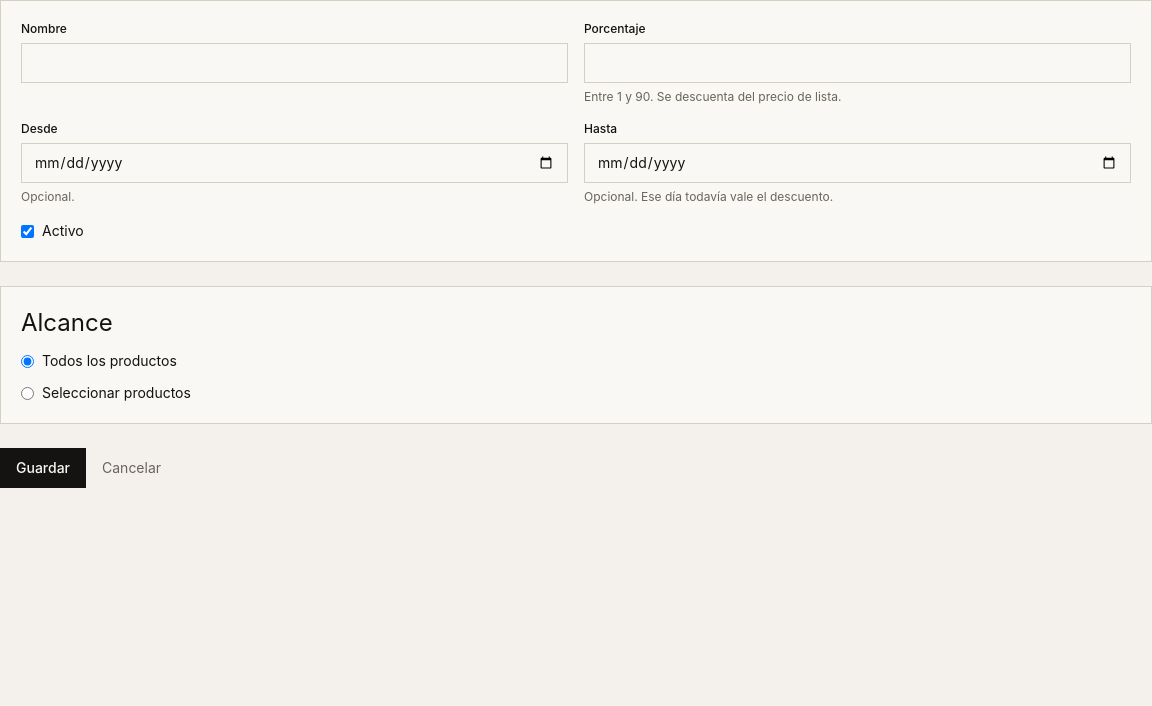
Test: DiscountForm › lists each product with its lot and price, and counts the selection
What coordinates should you click on to do the following:
click the radio button labelled "Seleccionar productos"
I would click on:
 (28, 393)
Its box is [21, 386, 34, 400].
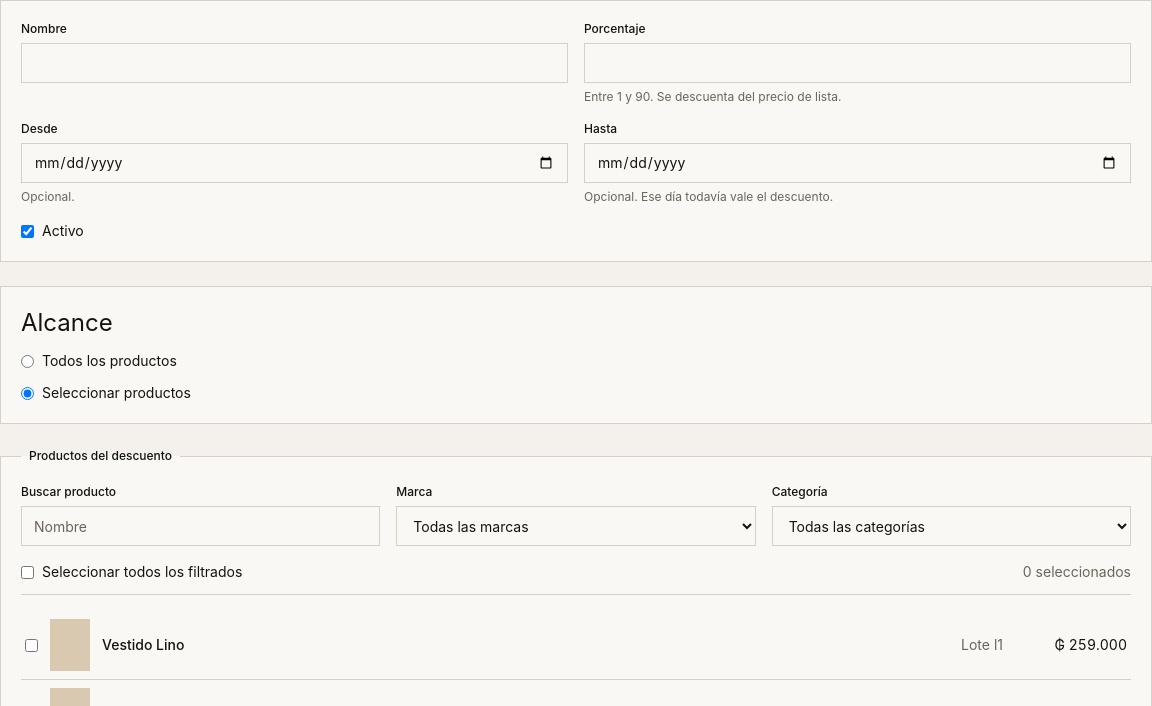
Check: the label labelled "Vestido Lino Lote l1 ₲ 259.000" is shown, box [21, 611, 1131, 679]
What coordinates should you click on to do the following:
click the checkbox labelled "Vestido Lino Lote l1 ₲ 259.000"
I would click on:
 (32, 645)
Its box is [25, 638, 38, 652].
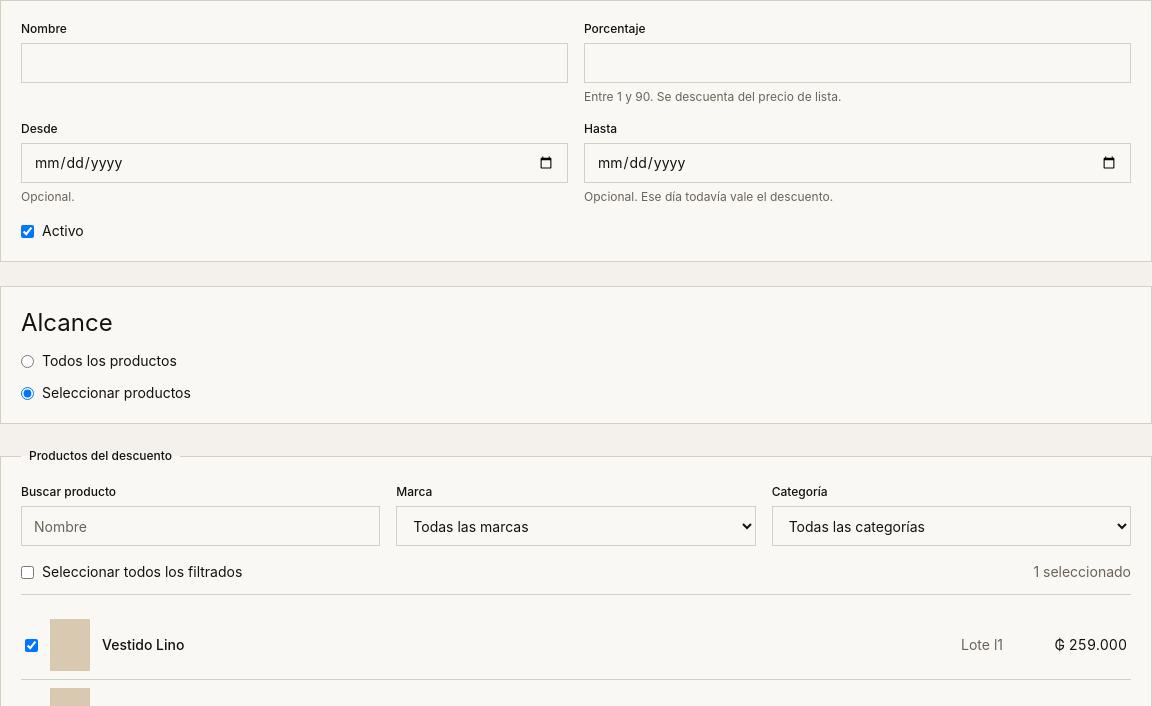
Check: the text "1 seleccionado" is shown, box [1033, 562, 1131, 582]
